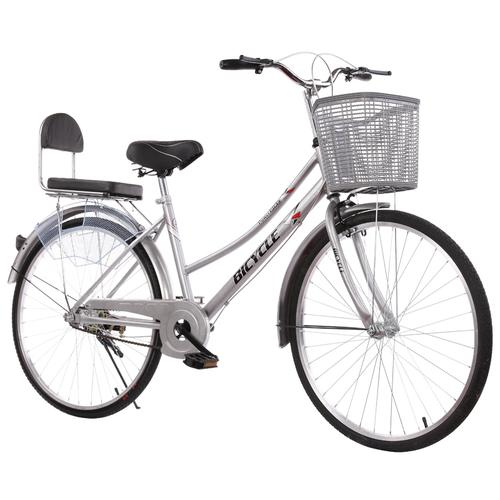单车: (6, 29, 500, 473)
